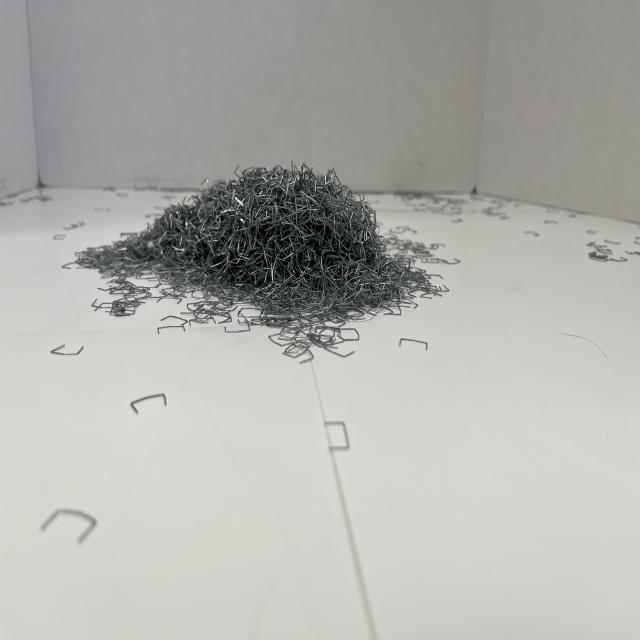staples: (72, 158, 446, 340)
